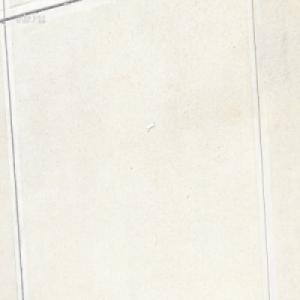Wrench: (146, 123, 154, 132)
